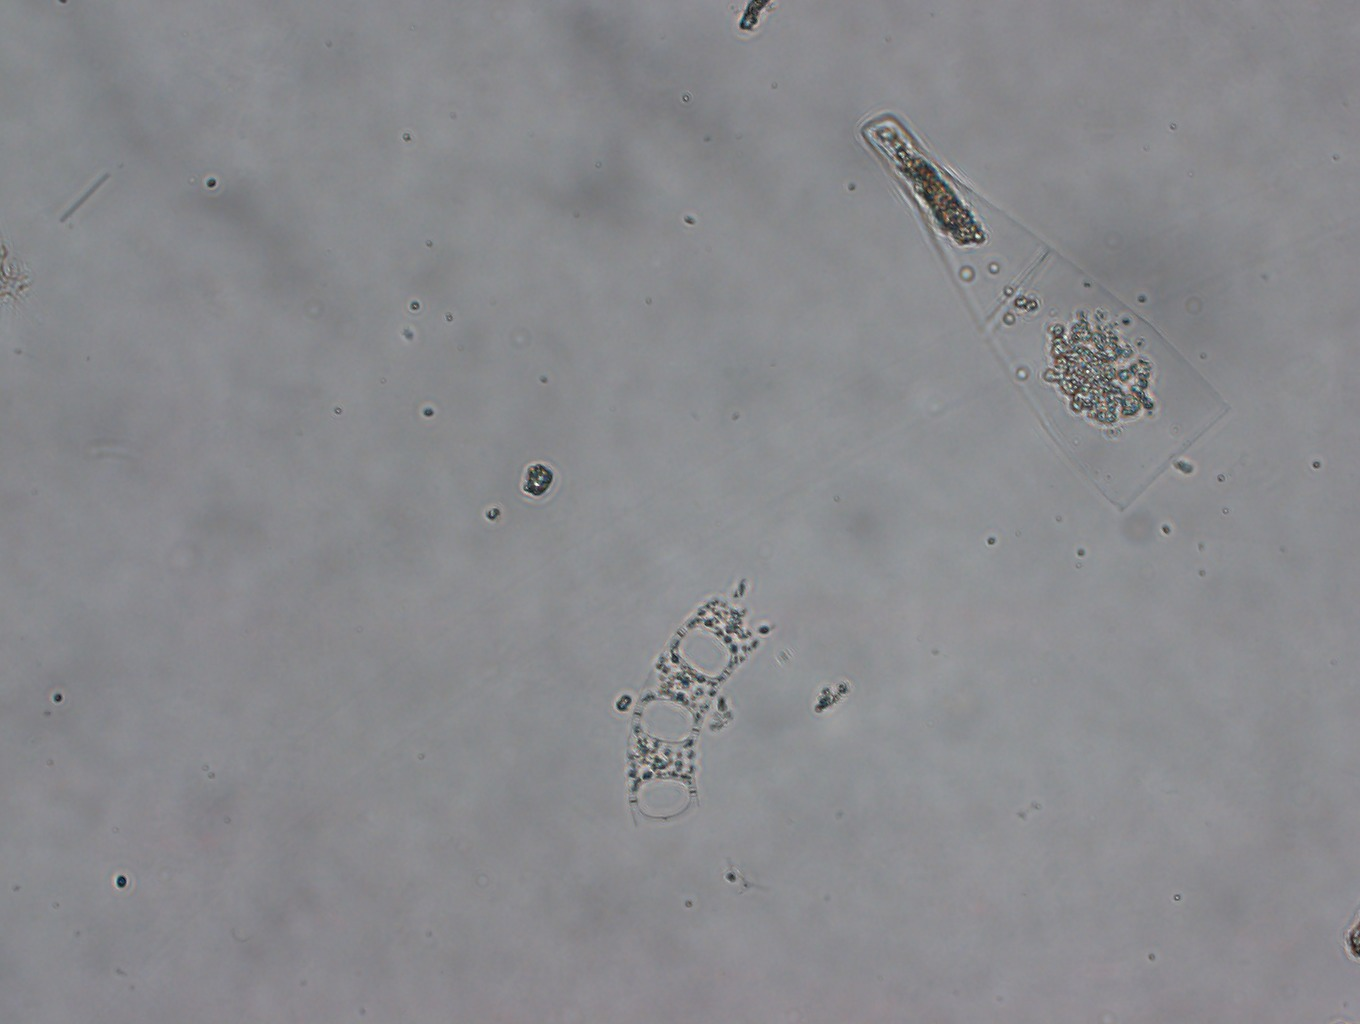eucampia: (624, 596, 761, 833)
helicotheca: (858, 110, 1231, 509)
